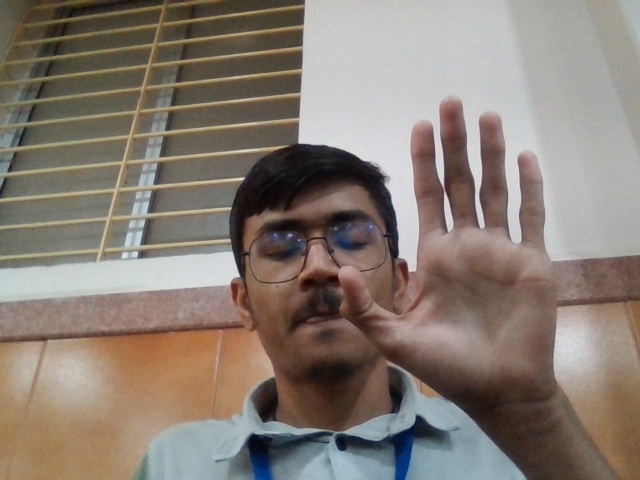Hello: (337, 92, 585, 395)
